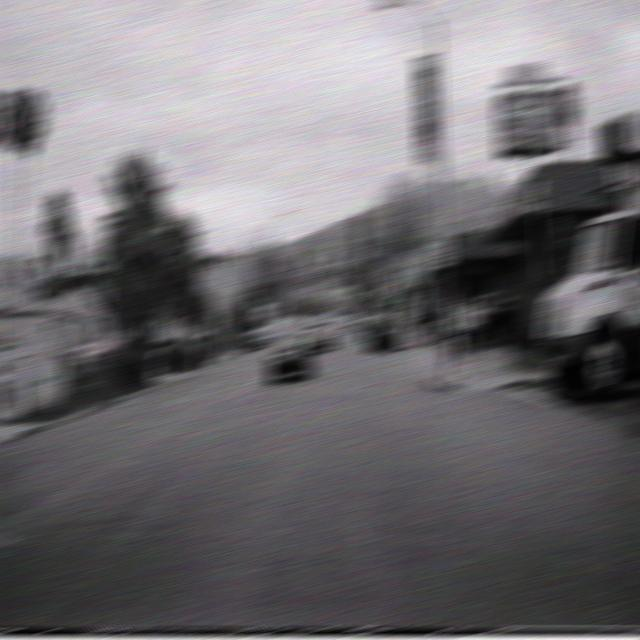speedLimit25: (432, 231, 454, 268)
